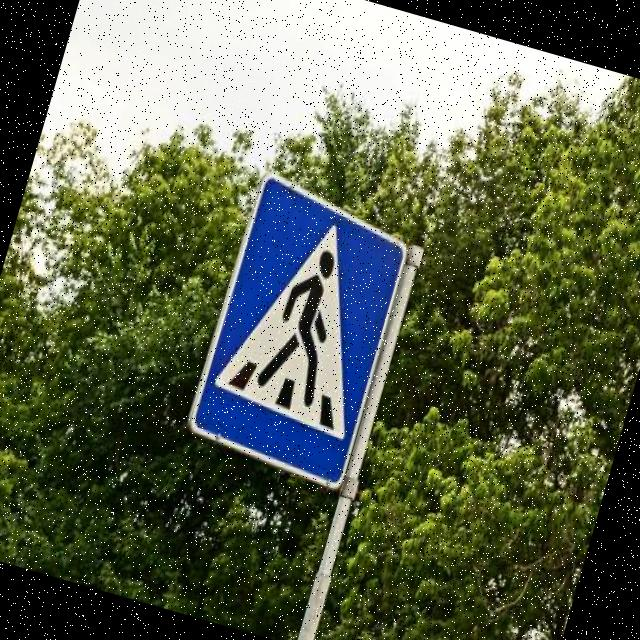crosswalk: (168, 168, 430, 503)
